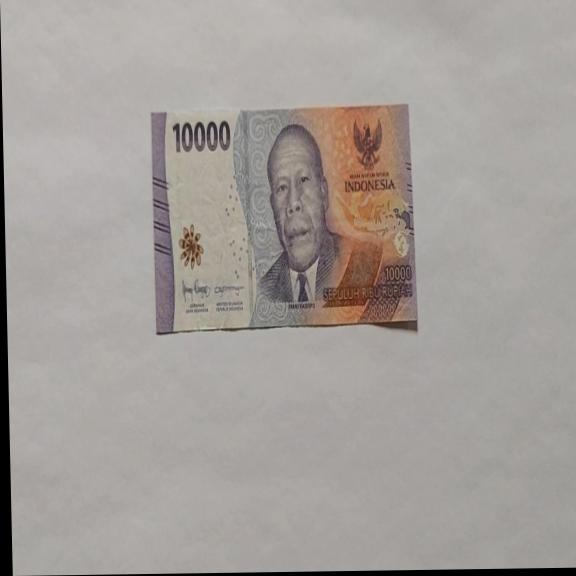Kertas: (150, 103, 418, 335), (171, 118, 231, 155)
